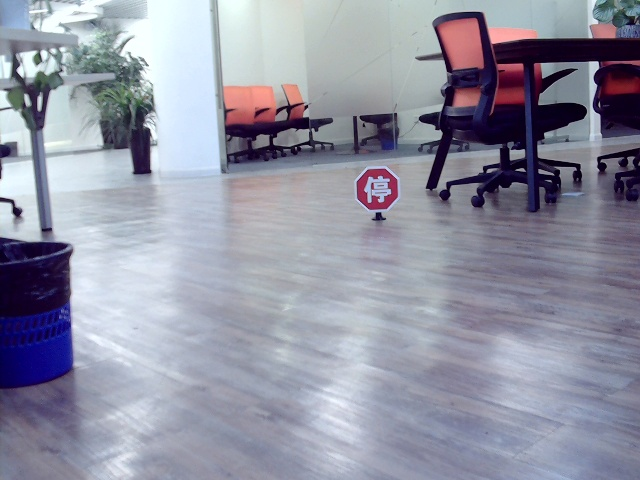stop: (363, 172, 390, 203)
